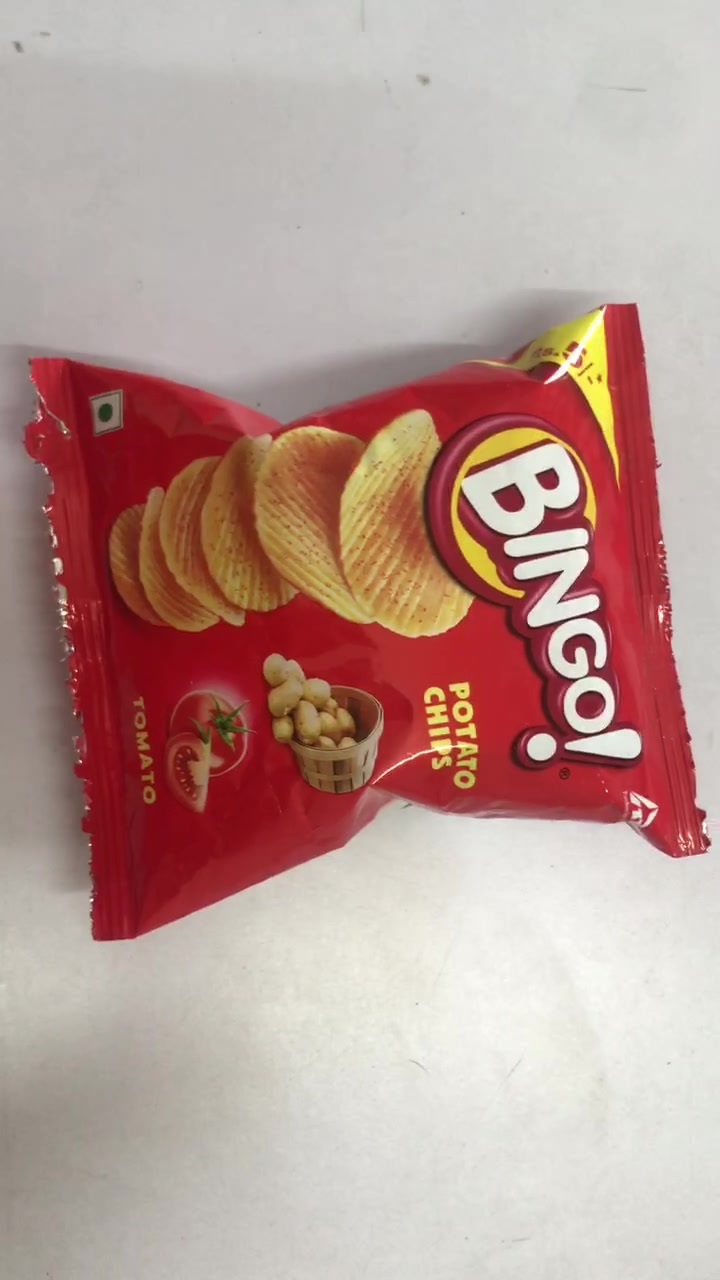Bingo: (33, 307, 702, 939)
